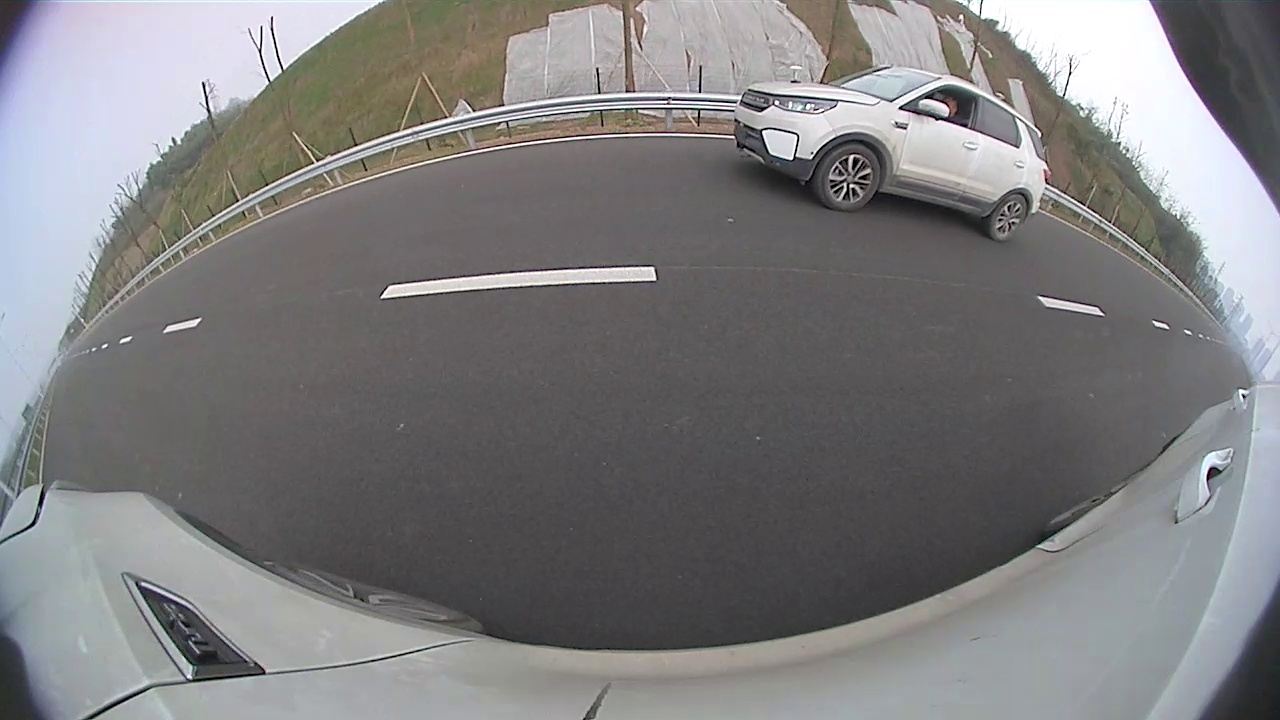car: (735, 67, 1049, 242)
front: (817, 143, 882, 212)
rear: (991, 193, 1027, 242)
